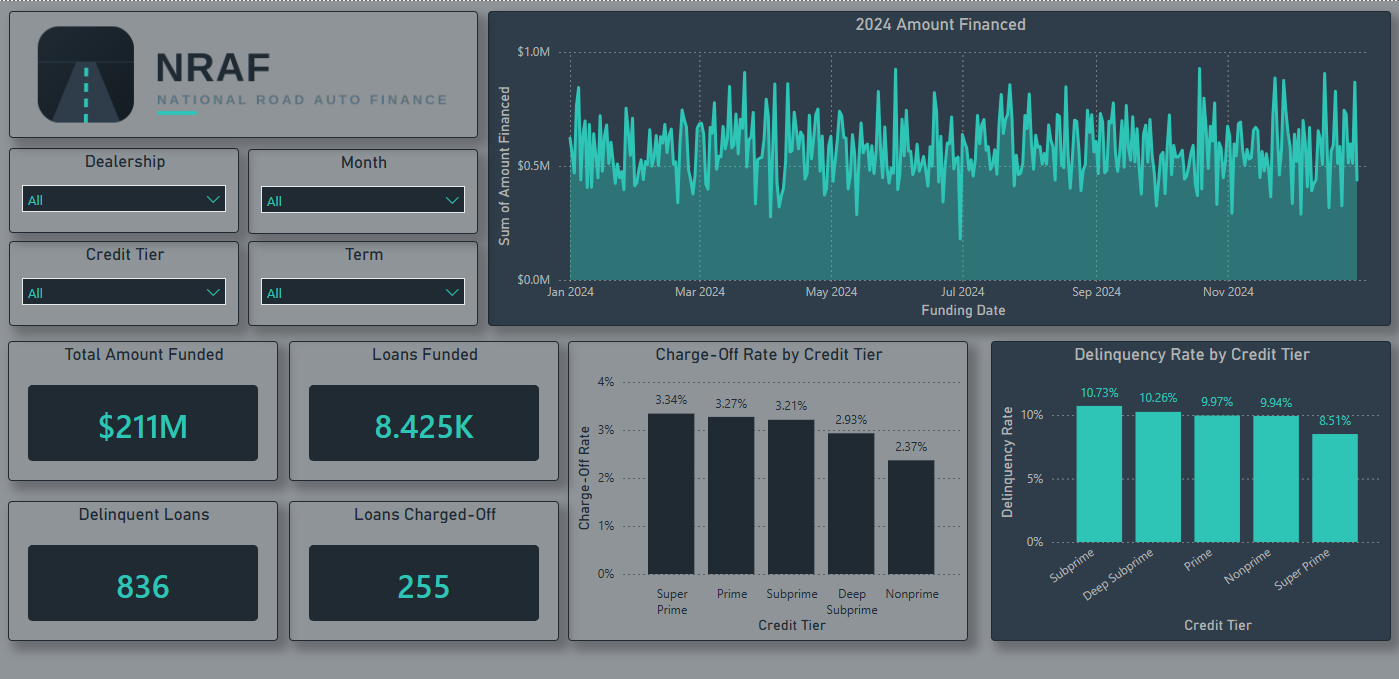

The page's visual inventory and layout, read from the dashboard file:
{"tool":"powerbi","page":{"name":"Page 1","canvas":[1400,680],"ordinal":0},"visuals":[{"type":"areaChart","title":"2024 Amount Financed","fields":{"Category":["Working Loan Data.Funding Date"],"Y":["Sum(Working Loan Data.Amount Financed)"]},"box":[488,10,903,315],"z":0},{"type":"slicer","title":"Dealership","fields":{"Values":["Working Loan Data.Dealership"]},"box":[8.9,146.6,230,85],"z":1000},{"type":"slicer","title":"Month","fields":{"Values":["Working Loan Data.Funding Date.Variation.Date Hierarchy.Month"]},"box":[247.8,147.7,230,85],"z":2000},{"type":"slicer","title":"Credit Tier","fields":{"Values":["Working Loan Data.Credit Tier"]},"box":[8.9,240,230,85],"z":3000},{"type":"slicer","title":"Term","fields":{"Values":["Working Loan Data.Loan Term (Months)"]},"box":[247.8,239.9,230,85],"z":4000},{"type":"cardVisual","title":"Loans Funded","fields":{"Data":["CountNonNull(Working Loan Data.Loan ID)"]},"box":[288.7,339.6,270,140],"z":5000},{"type":"cardVisual","title":"Total Amount Funded","fields":{"Data":["Sum(Working Loan Data.Amount Financed)"]},"box":[8.5,339.6,270,140],"z":6000},{"type":"image","box":[8.9,10,468.9,126.7],"z":7000},{"type":"cardVisual","title":"Loans Charged-Off","fields":{"Data":["Working Loan Data.Loans Charged-Off"]},"box":[288.7,500,270,140],"z":8000},{"type":"columnChart","fields":{"Category":["Working Loan Data.Credit Tier"],"Y":["Working Loan Data.Delinquency Rate"]},"box":[990.6,339.6,400,300],"z":9000},{"type":"columnChart","fields":{"Category":["Working Loan Data.Credit Tier"],"Y":["Working Loan Data.Charge-Off Rate"]},"box":[567.9,339.6,400,300],"z":10000},{"type":"cardVisual","title":"Delinquent Loans","fields":{"Data":["Working Loan Data.Loans Delinquent"]},"box":[8.5,500,270,140],"z":11000}]}

Visuals, with their boxes in screenshot pixels (x1, y1, x2, y2), scaled from the page's 1400x680 canvas onto the 1399x679 screenshot:
"2024 Amount Financed" areaChart: {"left": 488, "top": 10, "right": 1390, "bottom": 325}
"Dealership" slicer: {"left": 9, "top": 146, "right": 239, "bottom": 231}
"Month" slicer: {"left": 248, "top": 147, "right": 477, "bottom": 232}
"Credit Tier" slicer: {"left": 9, "top": 240, "right": 239, "bottom": 325}
"Term" slicer: {"left": 248, "top": 240, "right": 477, "bottom": 324}
"Loans Funded" cardVisual: {"left": 288, "top": 339, "right": 558, "bottom": 479}
"Total Amount Funded" cardVisual: {"left": 8, "top": 339, "right": 278, "bottom": 479}
image: {"left": 9, "top": 10, "right": 477, "bottom": 136}
"Loans Charged-Off" cardVisual: {"left": 288, "top": 499, "right": 558, "bottom": 639}
columnChart - Working Loan Data.Credit Tier x Working Loan Data.Delinquency Rate: {"left": 990, "top": 339, "right": 1390, "bottom": 639}
columnChart - Working Loan Data.Credit Tier x Working Loan Data.Charge-Off Rate: {"left": 567, "top": 339, "right": 967, "bottom": 639}
"Delinquent Loans" cardVisual: {"left": 8, "top": 499, "right": 278, "bottom": 639}
